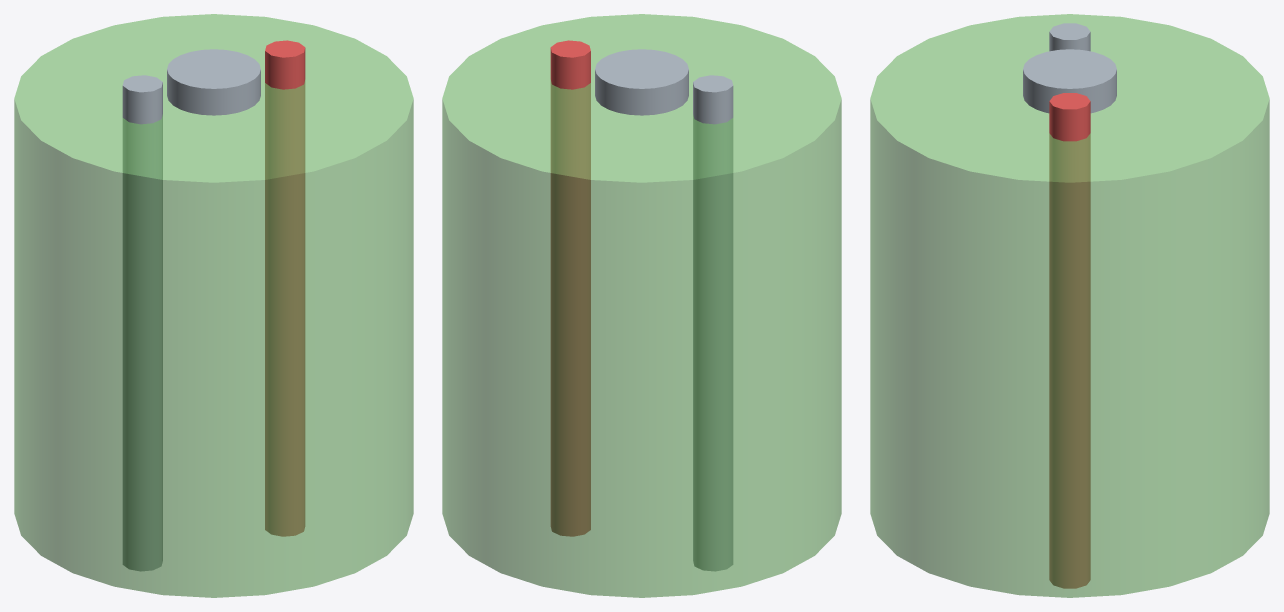
The model's file is bio-battery.glb.
3 renders of one model, left to right at view 1: azimuth 30°, elevation 25°; view 2: azimuth 150°, elevation 25°; view 3: azimuth 270°, elevation 25°, orthographic.
Bounding box in the file's own units: 0.68 × 0.9 × 0.68.
